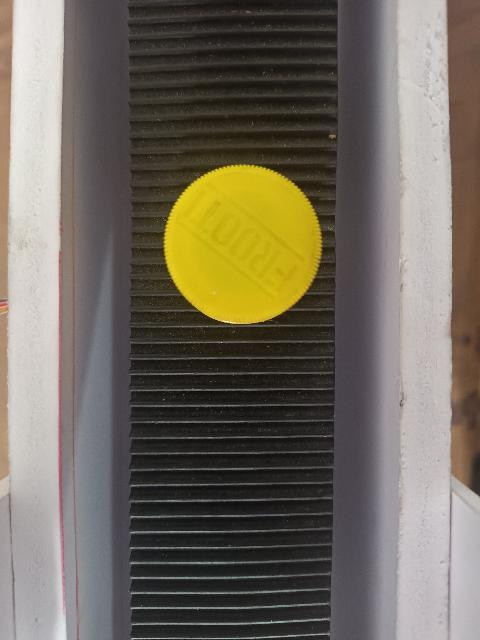bottlecap: (164, 158, 326, 330)
